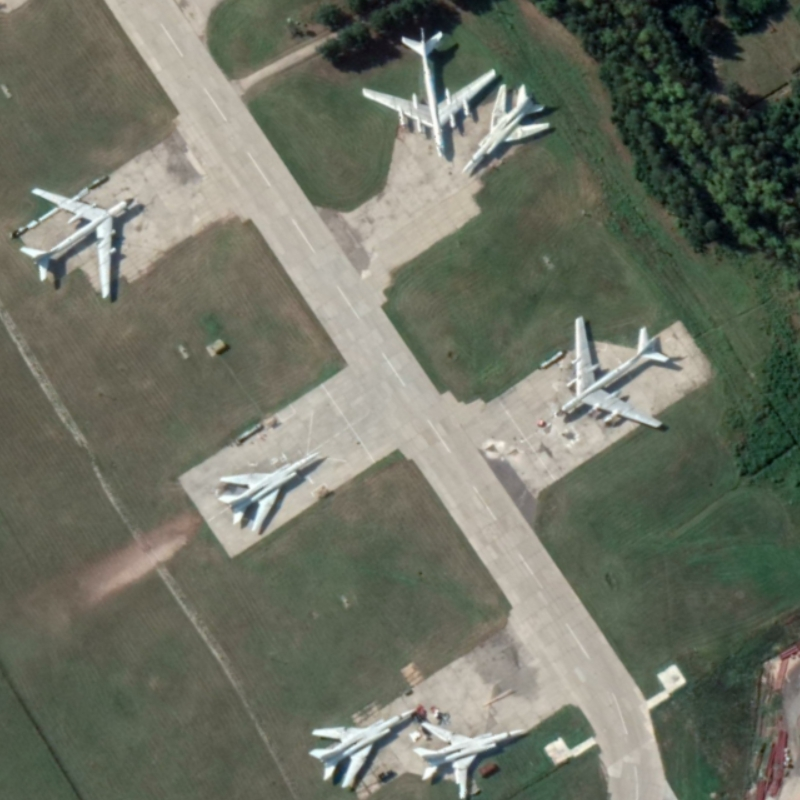A12: (305, 706, 419, 791), (412, 720, 529, 800), (216, 450, 323, 534), (460, 81, 552, 174)
A17: (360, 24, 500, 160), (553, 314, 672, 431), (18, 185, 136, 301)
